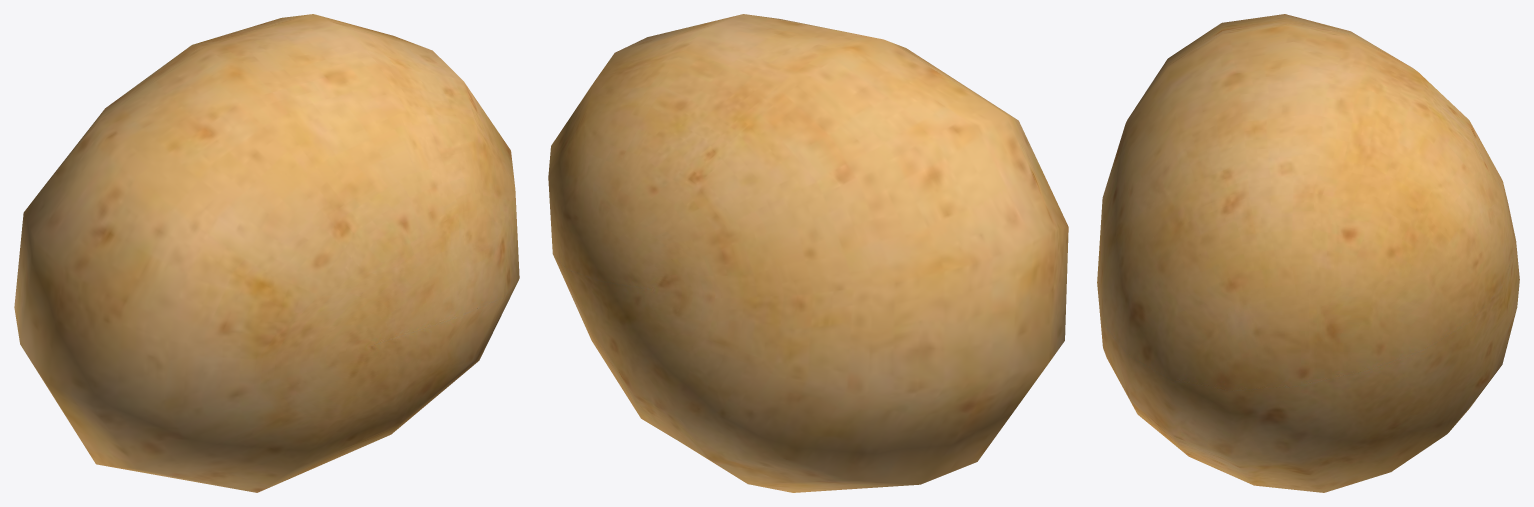
Rendered from papa.glb.
The picture shows the model from 3 angles, left to right: view 1: azimuth 30°, elevation 25°; view 2: azimuth 150°, elevation 25°; view 3: azimuth 270°, elevation 25°; orthographic projection. The views are drawn at different scales.
Visible parts, largest first — view 1: papa; view 2: papa; view 3: papa.
Boxes of the visible parts, box(x1,y1,x2,y2) form: papa: box(14, 14, 519, 492); papa: box(548, 14, 1068, 492); papa: box(1097, 14, 1519, 492).
Size of the model in its own units: 0.1382 by 0.1226 by 0.1082.
Materials: 1 (1 with a texture image).
